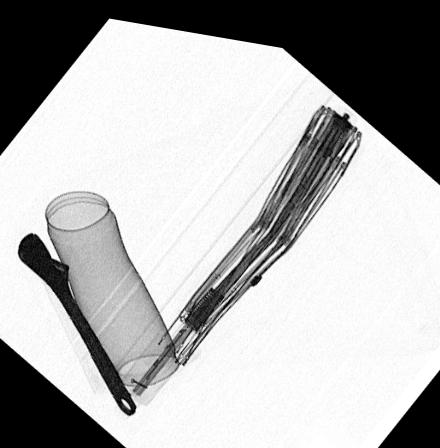Wrench: (18, 228, 140, 413)
